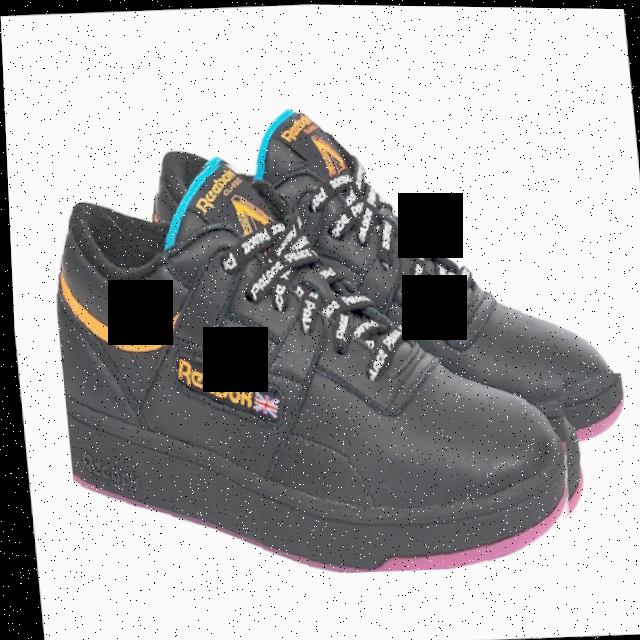shoe: (40, 140, 588, 589), (276, 83, 630, 388)
